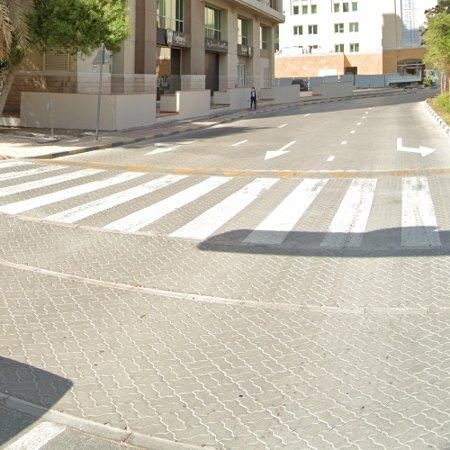crosswalks: (0, 157, 444, 248)
